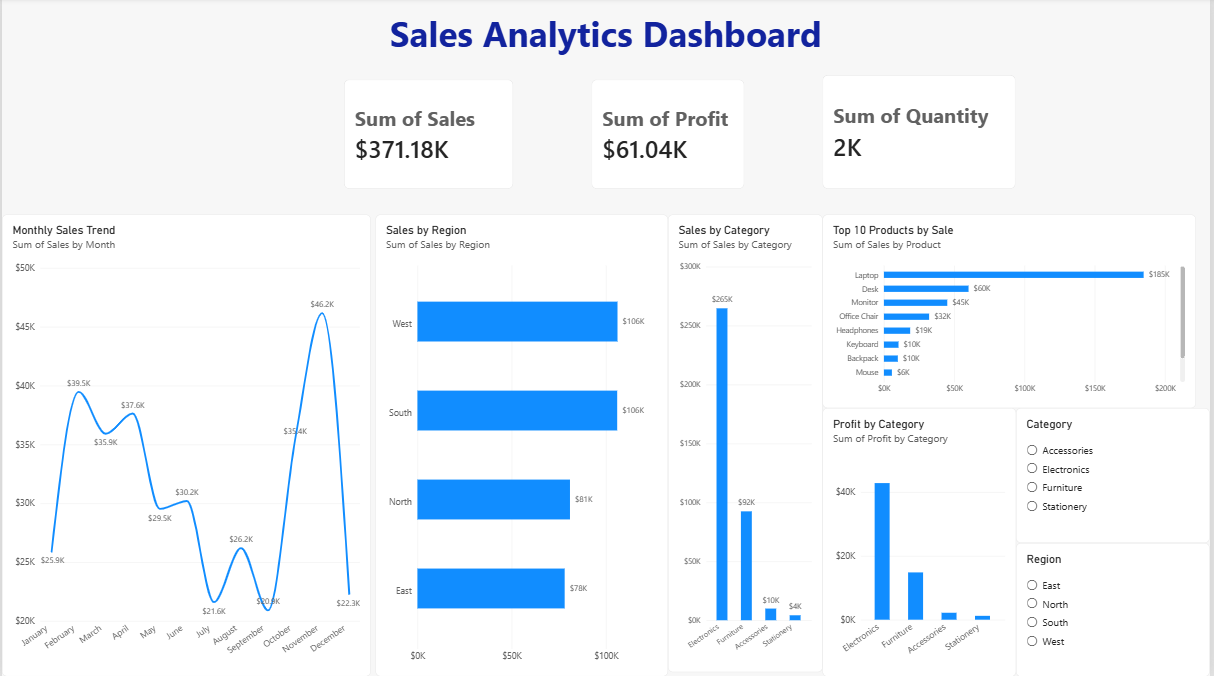

The dashboard page shown, as its layout file describes it:
{"tool":"powerbi","page":{"name":"Page 1","canvas":[1920,1080],"ordinal":0},"visuals":[{"type":"cardVisual","fields":{"Data":["Sum(Sales_Data.Sales)"]},"box":[544,131.2,269.6,174.2],"z":0},{"type":"cardVisual","fields":{"Data":["Sum(Sales_Data.Profit)"]},"box":[937.7,131.2,243.4,174.2],"z":1000},{"type":"cardVisual","fields":{"Data":["Sum(Sales_Data.Quantity)"]},"box":[1305.1,124.1,307.8,181.3],"z":2000},{"type":"clusteredColumnChart","title":"Sales by Category","fields":{"Category":["Sales_Data.Category"],"Y":["Sum(Sales_Data.Sales)"]},"box":[1059.3,346,245.7,727.7],"z":3000},{"type":"clusteredBarChart","title":"Sales by Region","fields":{"Category":["Sales_Data.Region"],"Y":["Sum(Sales_Data.Sales)"]},"box":[594.1,346,465.3,734.9],"z":4000},{"type":"lineChart","title":"Monthly Sales Trend","fields":{"Category":["Sales_Data.Order Date.Variation.Date Hierarchy.Month"],"Y":["Sum(Sales_Data.Sales)"]},"box":[0,346,586.9,734.9],"z":5000},{"type":"clusteredBarChart","title":"Top 10 Products by Sale","fields":{"Category":["Sales_Data.Product"],"Y":["Sum(Sales_Data.Sales)"]},"box":[1305.1,346,594.1,307.8],"z":6000},{"type":"clusteredColumnChart","title":"Profit by Category","fields":{"Category":["Sales_Data.Category"],"Y":["Sum(Sales_Data.Profit)"]},"box":[1305.1,653.7,307.8,427.1],"z":6001},{"type":"listSlicer","fields":{"Values":["Sales_Data.Category"]},"box":[1612.9,653.7,307.8,214.7],"z":6002},{"type":"listSlicer","fields":{"Values":["Sales_Data.Region"]},"box":[1612.9,868.5,307.8,212.3],"z":6003},{"type":"textbox","box":[0,0,1920.7,269.6],"z":6004}]}

Visuals, with their boxes in screenshot pixels (x1, y1, x2, y2), scaled from the page's 1920x1080 canvas onto the 1214x676 screenshot:
cardVisual - Sum(Sales_Data.Sales): BBox(344, 82, 514, 191)
cardVisual - Sum(Sales_Data.Profit): BBox(593, 82, 747, 191)
cardVisual - Sum(Sales_Data.Quantity): BBox(825, 78, 1020, 191)
"Sales by Category" clusteredColumnChart: BBox(670, 217, 825, 672)
"Sales by Region" clusteredBarChart: BBox(376, 217, 670, 675)
"Monthly Sales Trend" lineChart: BBox(0, 217, 371, 675)
"Top 10 Products by Sale" clusteredBarChart: BBox(825, 217, 1201, 409)
"Profit by Category" clusteredColumnChart: BBox(825, 409, 1020, 675)
listSlicer - Sales_Data.Category: BBox(1020, 409, 1213, 544)
listSlicer - Sales_Data.Region: BBox(1020, 544, 1213, 675)
textbox: BBox(0, 0, 1213, 169)
